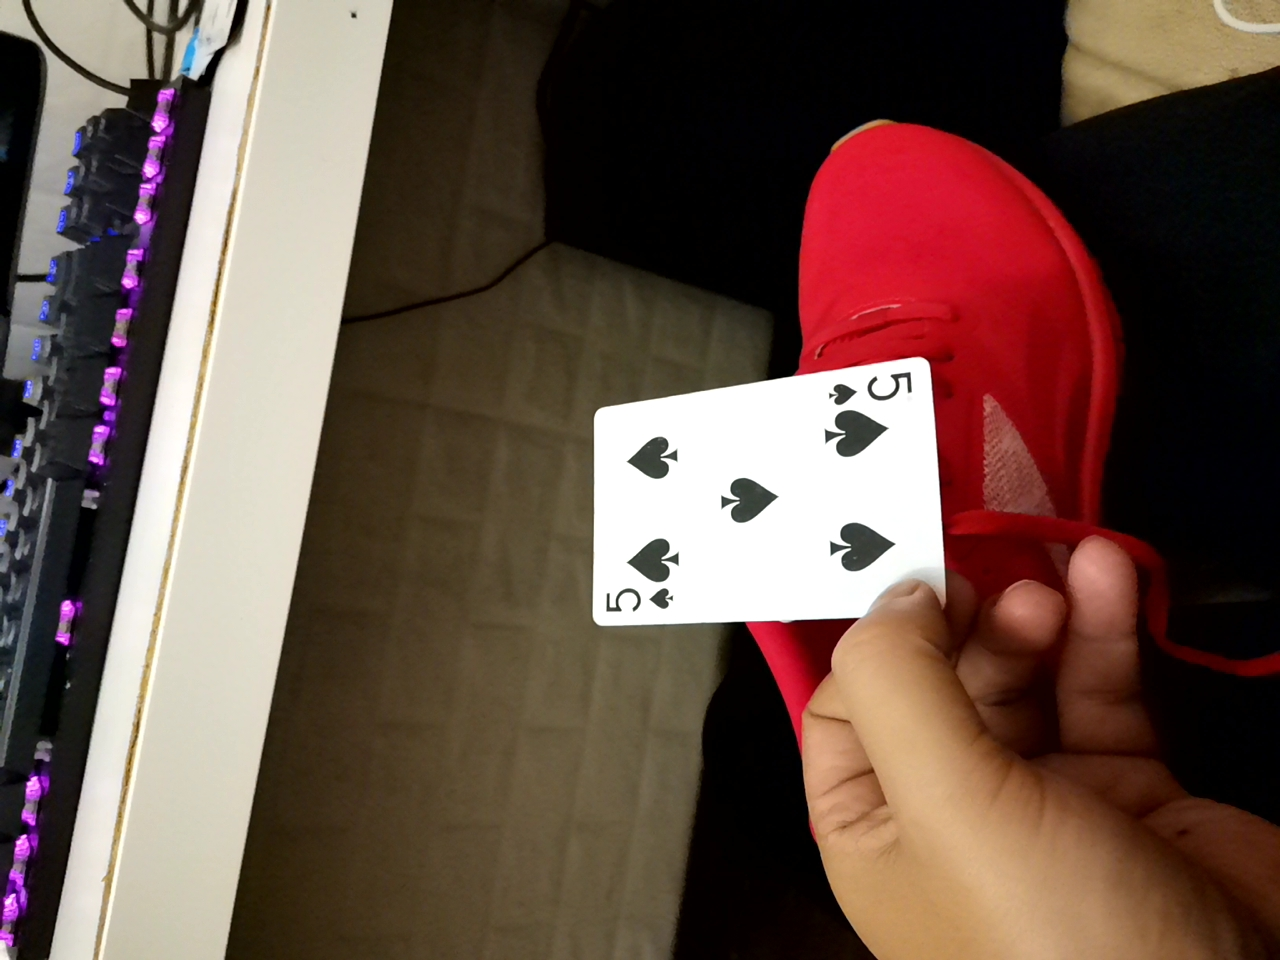ht 5: (570, 357, 956, 625)
